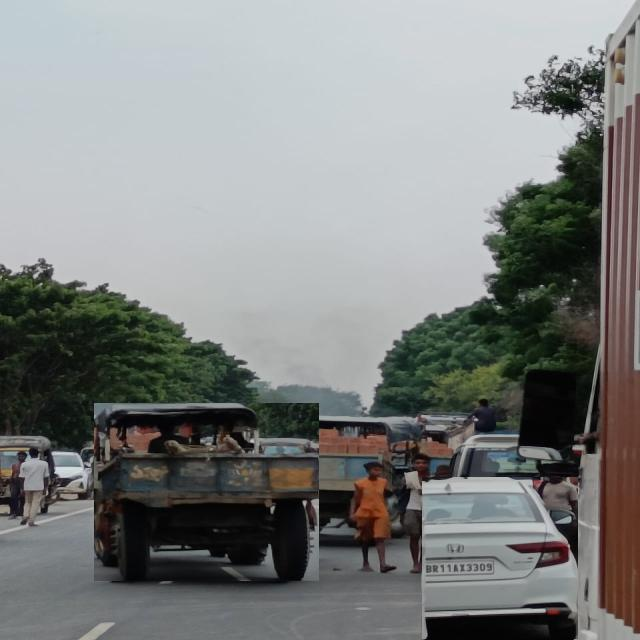car: (422, 477, 578, 639)
truck: (94, 404, 318, 581)
